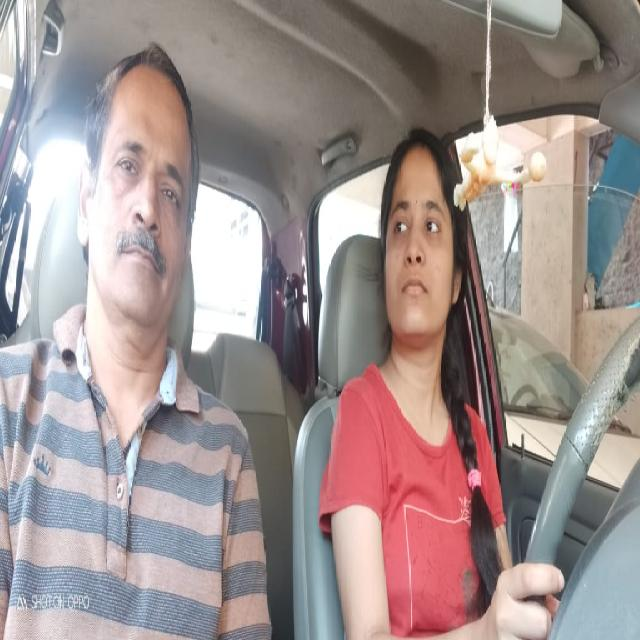LeftRight: (378, 125, 464, 335)
person: (72, 47, 196, 328)
